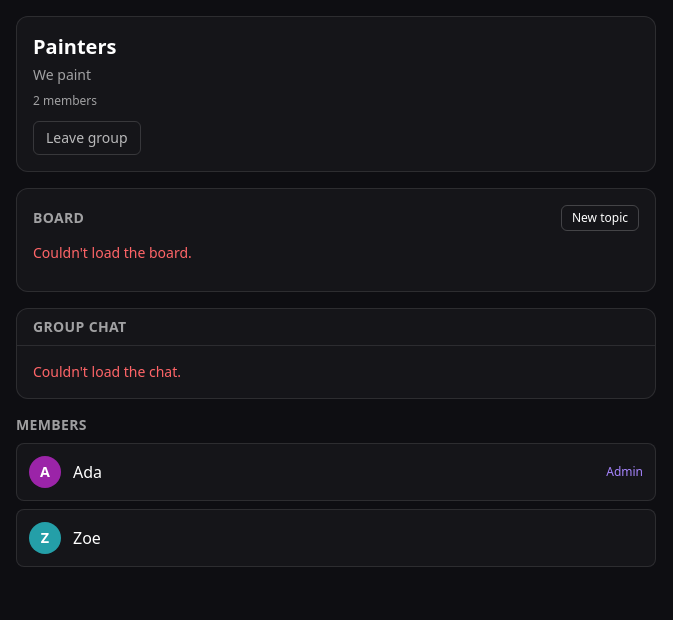
GroupDetailPage › shows the server's message if leaving fails
This screenshot has width=673, height=620.
Click the button "Leave group".
click(87, 138)  # box x1=33 y1=121 x2=141 y2=155
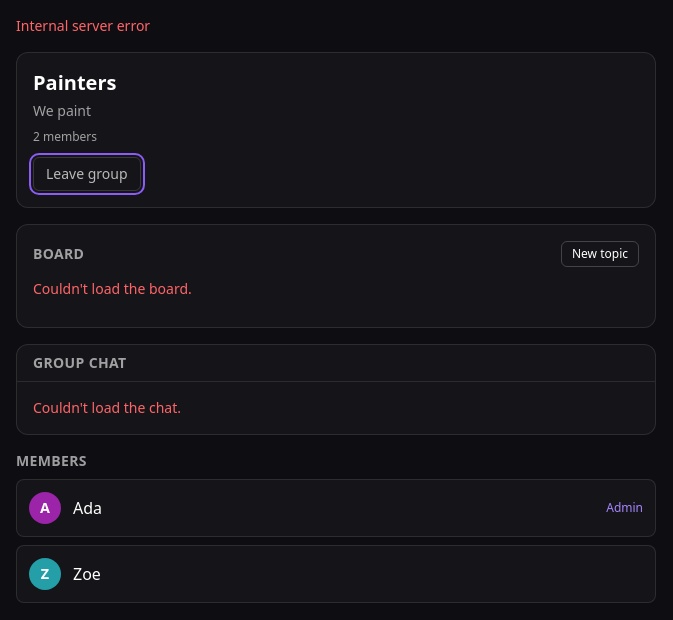
Now the text "Internal server error" is shown, box x1=16 y1=16 x2=150 y2=35
